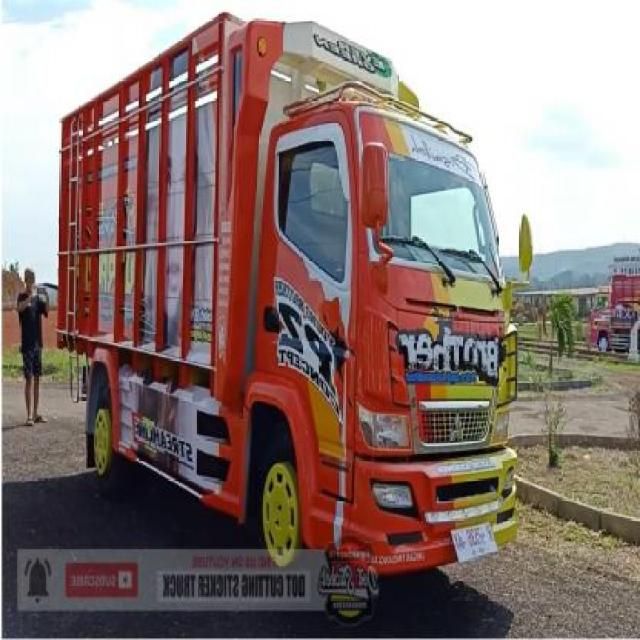truck: (59, 11, 536, 577)
